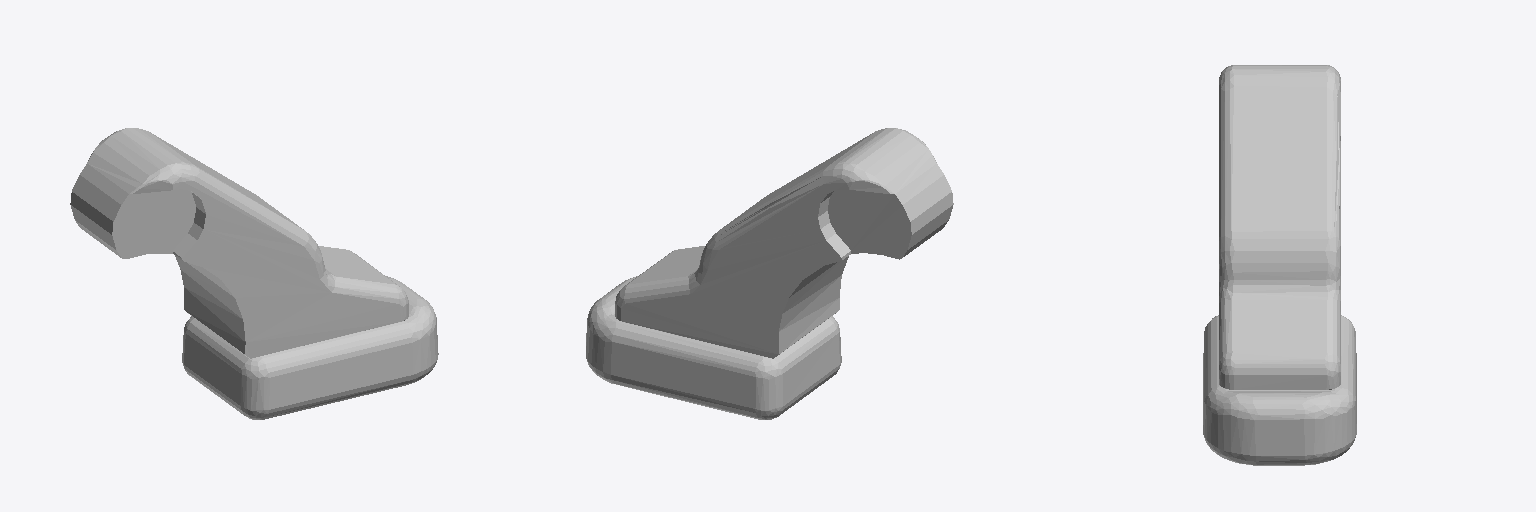
The model's file is l_finger_tip.obj.
The picture shows the model from 3 angles: view 1: azimuth 30°, elevation 25°; view 2: azimuth 150°, elevation 25°; view 3: azimuth 270°, elevation 25°; orthographic projection.
Parts seen in each view (by area): view 1: finger_tip_M_finger_tip_MShape; view 2: finger_tip_M_finger_tip_MShape; view 3: finger_tip_M_finger_tip_MShape.
Part boxes in pixels (x1,y1,x2,y2): finger_tip_M_finger_tip_MShape: (70, 128, 438, 419); finger_tip_M_finger_tip_MShape: (586, 128, 953, 419); finger_tip_M_finger_tip_MShape: (1203, 65, 1356, 465).
Bounding box in the file's own units: 0.0568 × 0.0447 × 0.023.